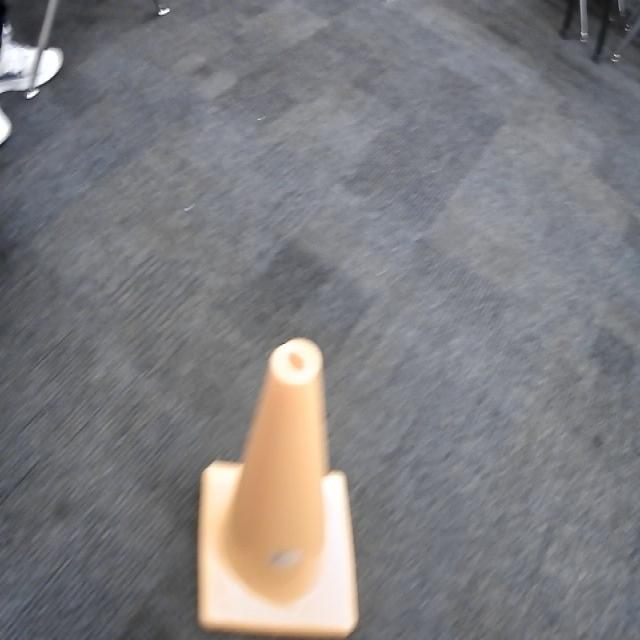cone: (197, 334, 362, 640)
